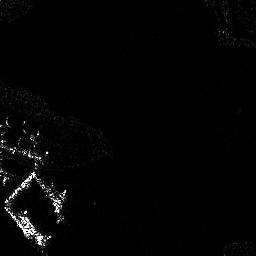ship: (15, 211, 47, 247)
